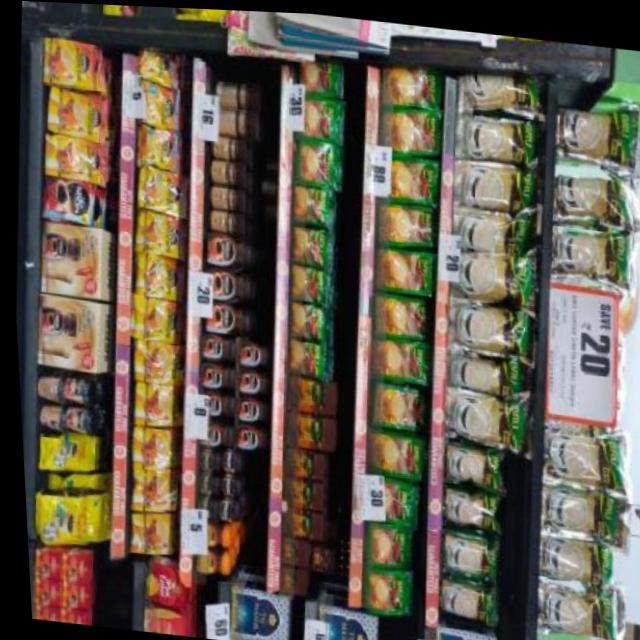Coffee: (43, 88, 106, 138), (36, 176, 95, 225), (39, 36, 96, 86), (41, 133, 102, 179), (126, 378, 181, 427), (125, 422, 179, 471), (124, 294, 180, 341), (124, 464, 177, 513), (122, 509, 175, 556), (129, 251, 183, 297), (128, 338, 183, 383), (130, 210, 185, 255), (132, 166, 186, 210), (200, 229, 250, 268), (137, 123, 181, 166), (134, 83, 179, 125), (199, 265, 250, 302), (196, 299, 248, 335), (137, 44, 178, 83), (196, 331, 233, 362), (193, 387, 230, 418), (191, 418, 230, 447), (187, 517, 224, 547), (194, 360, 231, 389), (232, 337, 268, 366), (233, 365, 267, 394), (229, 420, 263, 449), (188, 545, 223, 573), (231, 393, 264, 422), (189, 466, 213, 494), (211, 494, 235, 521), (192, 445, 215, 471), (215, 447, 237, 474), (191, 493, 212, 517), (217, 470, 237, 494)
